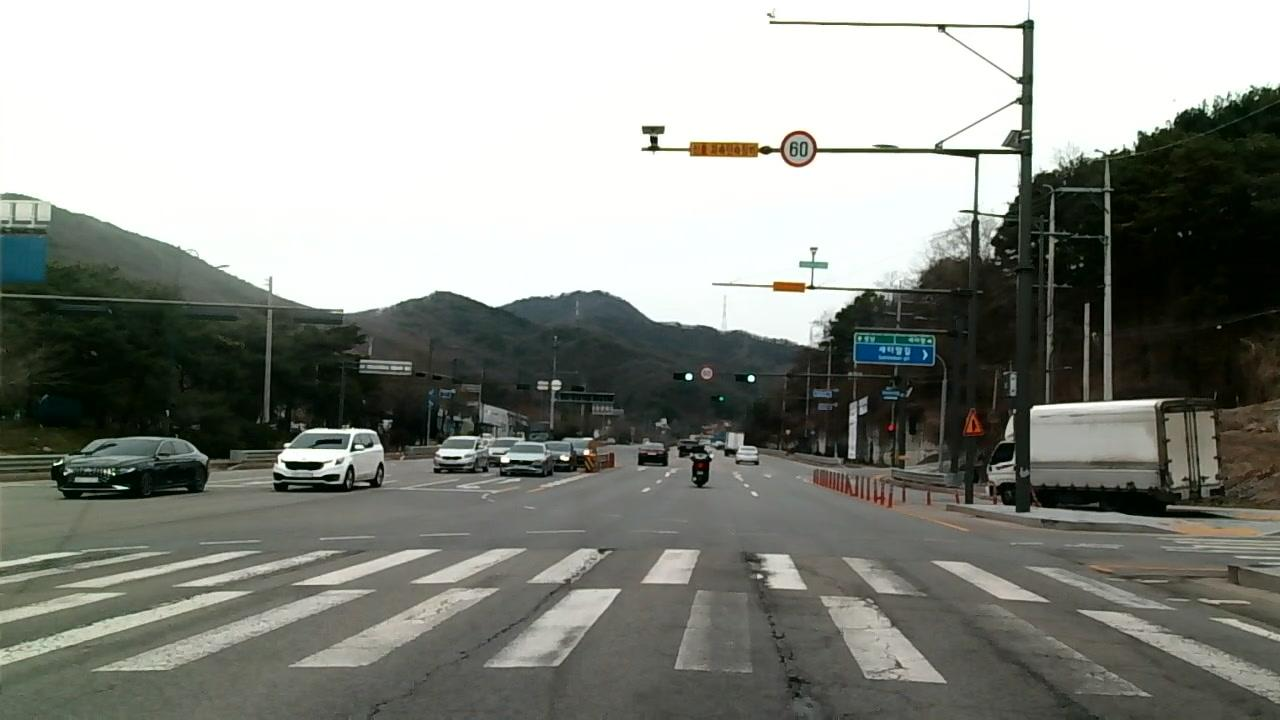pothole: (596, 483, 617, 543), (740, 552, 769, 571)
vcrack: (359, 555, 590, 720), (969, 625, 1103, 719), (748, 576, 809, 700)
